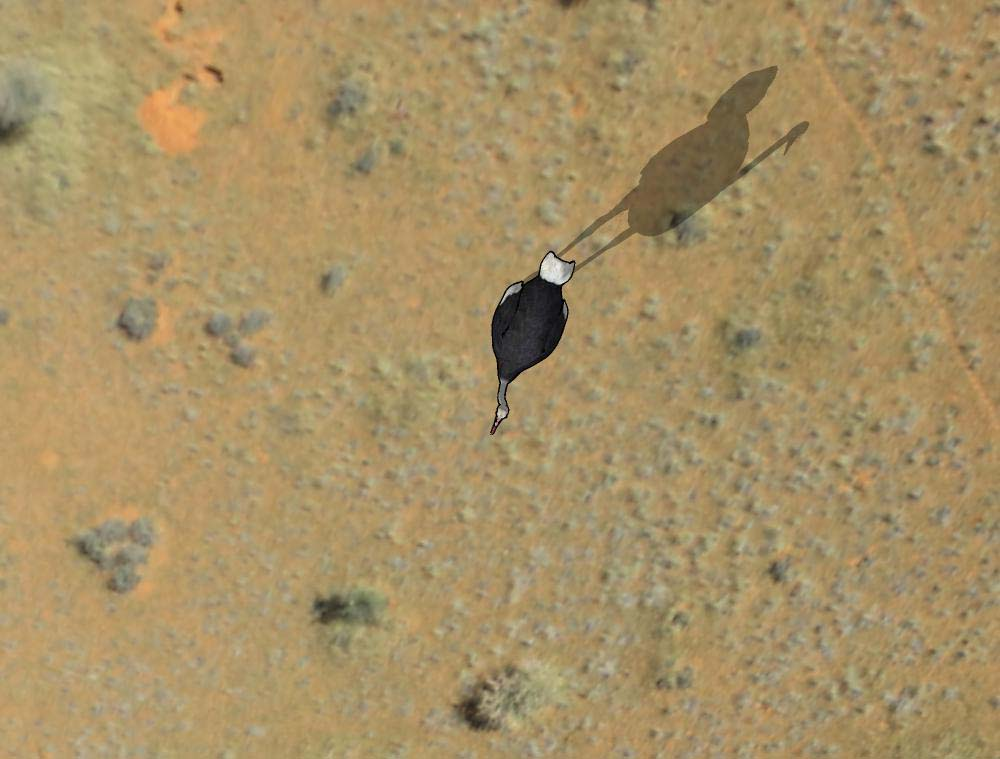ostrich: (479, 248, 577, 442)
